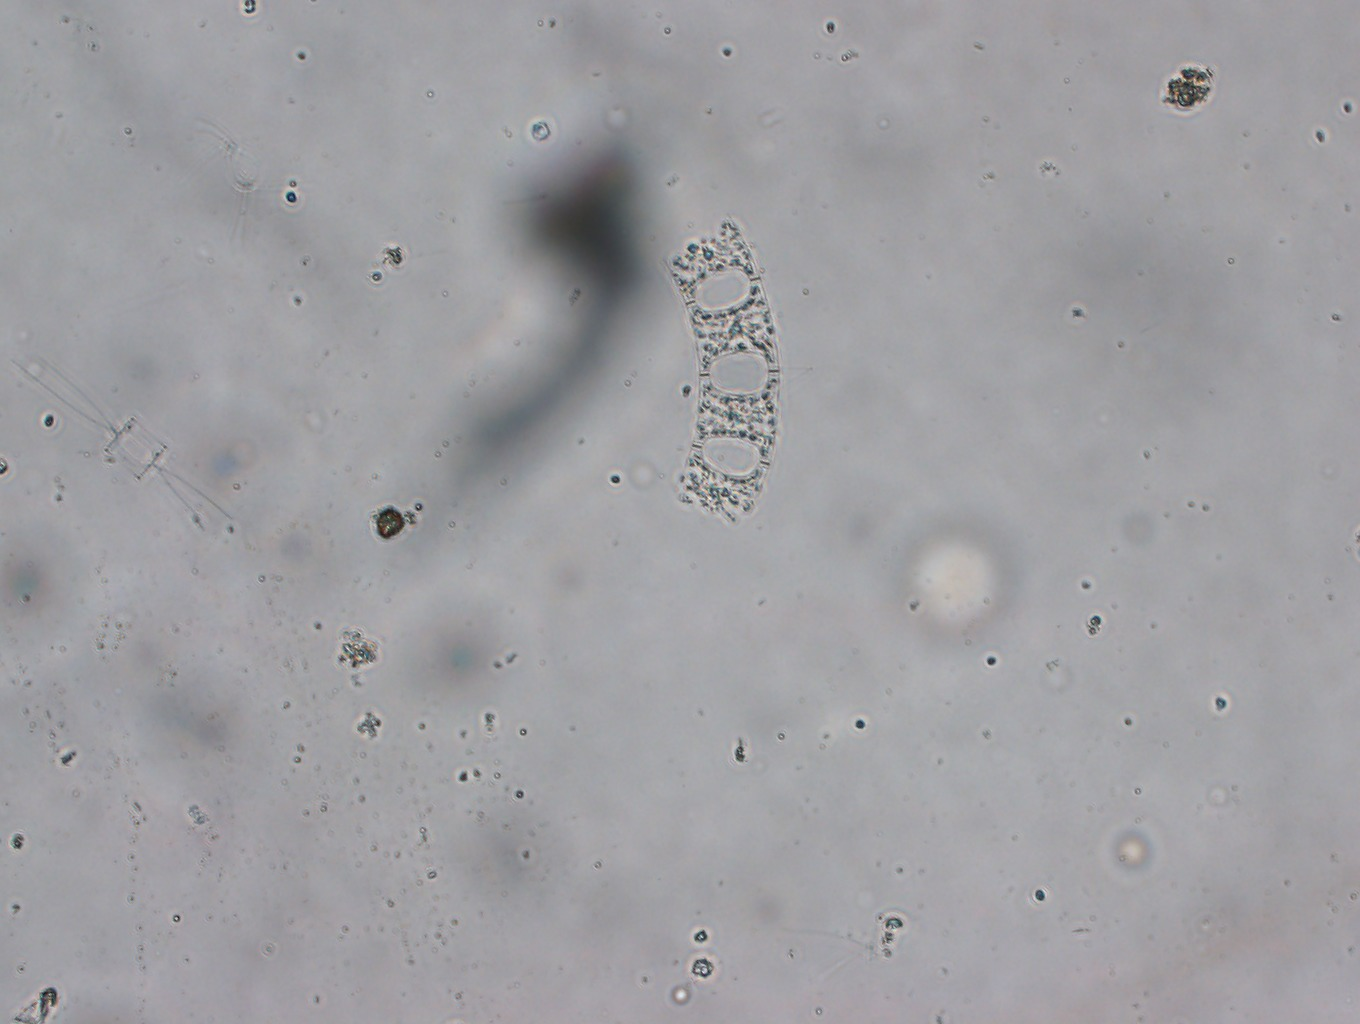chaetoceros: (11, 350, 242, 539)
eucampia: (661, 214, 781, 531)
